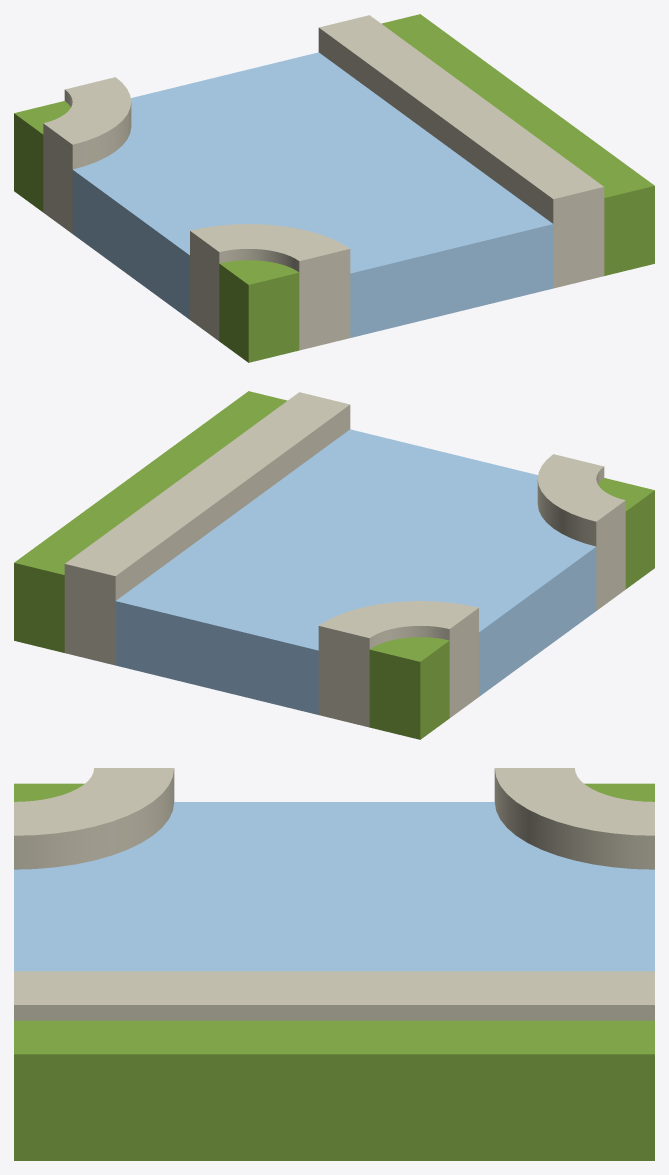
Rendered from tile217.fbx.
3 renders of one model, top to bottom at view 1: azimuth 30°, elevation 25°; view 2: azimuth 150°, elevation 25°; view 3: azimuth 270°, elevation 25°, orthographic. The views are drawn at different scales.
Visible parts, largest first — view 1: tile217; view 2: tile217; view 3: tile217.
Part boxes in pixels (x1,y1,x2,y2): tile217: (14, 14, 654, 362); tile217: (14, 391, 654, 739); tile217: (14, 768, 654, 1160).
Size of the model in its own units: 10 by 2.1 by 10.
